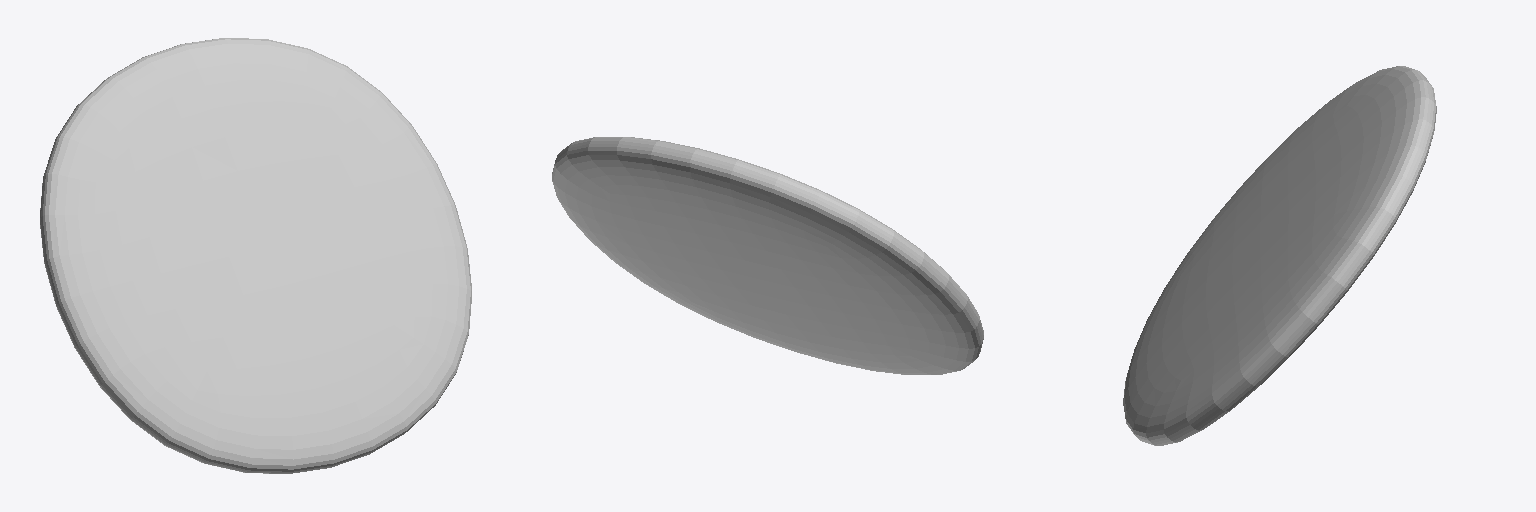
The model's file is FlovePodsolnuh.obj.
3 renders of one model, left to right at view 1: azimuth 30°, elevation 25°; view 2: azimuth 150°, elevation 25°; view 3: azimuth 270°, elevation 25°, orthographic.
Visible parts, largest first — view 1: Cube.001; view 2: Cube.001; view 3: Cube.001.
Boxes of the visible parts, box(x1,y1,x2,y2) form: Cube.001: box(40, 38, 471, 473); Cube.001: box(552, 137, 983, 374); Cube.001: box(1123, 66, 1436, 445).
Bounding box in the file's own units: 1.83 × 1.4 × 1.26.